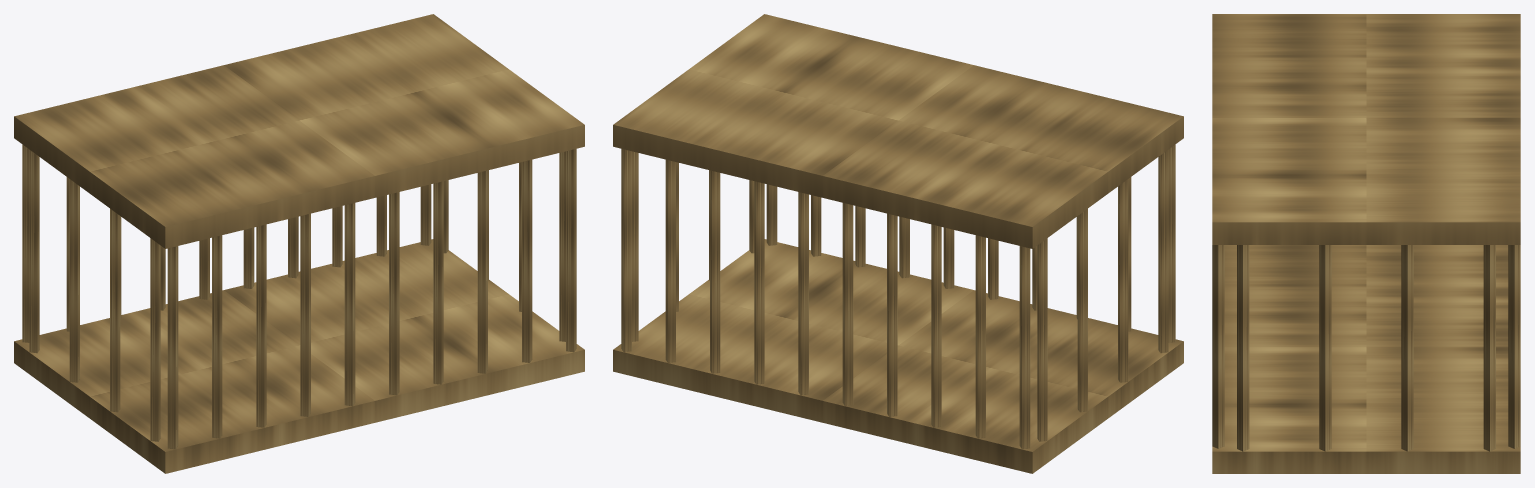
Rendered from Cage_Poultry_1.gltf.
The picture shows the model from 3 angles, left to right: view 1: azimuth 30°, elevation 25°; view 2: azimuth 150°, elevation 25°; view 3: azimuth 270°, elevation 25°; orthographic projection.
Parts seen in each view (by area): view 1: Cage_Poultry_1; view 2: Cage_Poultry_1; view 3: Cage_Poultry_1.
Part boxes in pixels (bbox=[...]): Cage_Poultry_1: bbox=[14, 14, 584, 473]; Cage_Poultry_1: bbox=[613, 14, 1183, 473]; Cage_Poultry_1: bbox=[1212, 14, 1520, 473].
Size of the model in its own units: 0.8 by 0.45 by 0.5.
1 material, 1 textured.
